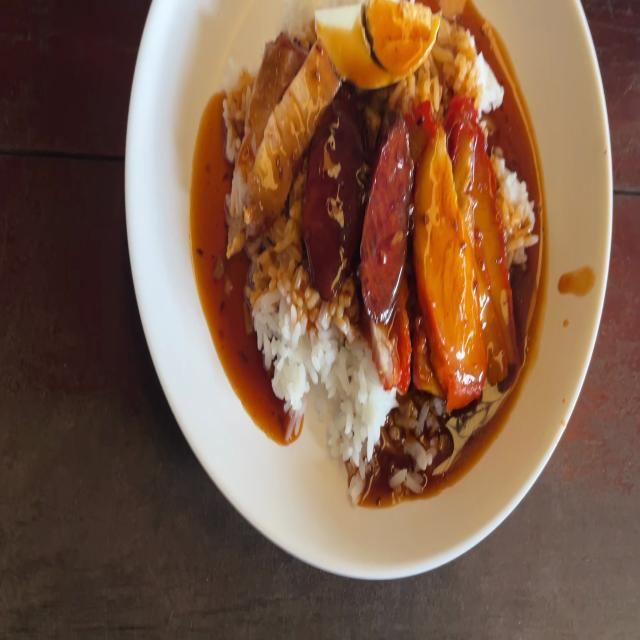red_pork_and_crispy_pork: (314, 0, 437, 78)
stir_fried_basil: (300, 115, 417, 292), (302, 100, 374, 282), (363, 127, 413, 297)
